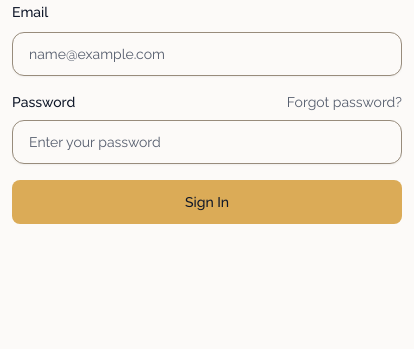
Test case: LoginForm › shows the same neutral alert for auth/user-not-found and focuses it
Type "a@b.com" into the field labelled "Email" at (207, 54), box [12,32,402,76]
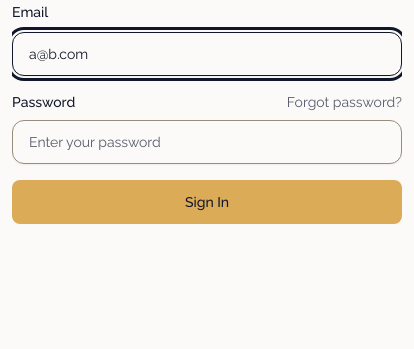
Type "secret123" into the password field labelled "Password" at (207, 142), box [12,120,402,164]
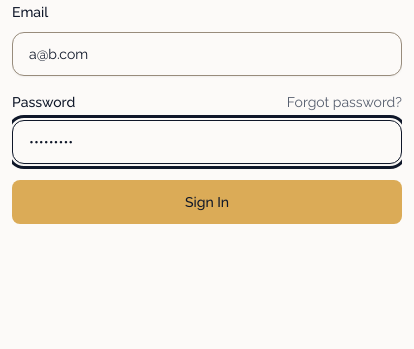
Click the button "Sign In" at (207, 202), box [12,180,402,224]
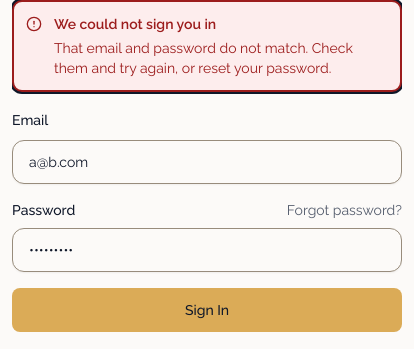
Check: the message shows "We could not sign you in", box [54,16,216,32]
Check: the message shows "email and password do not match", box [54,40,353,76]
